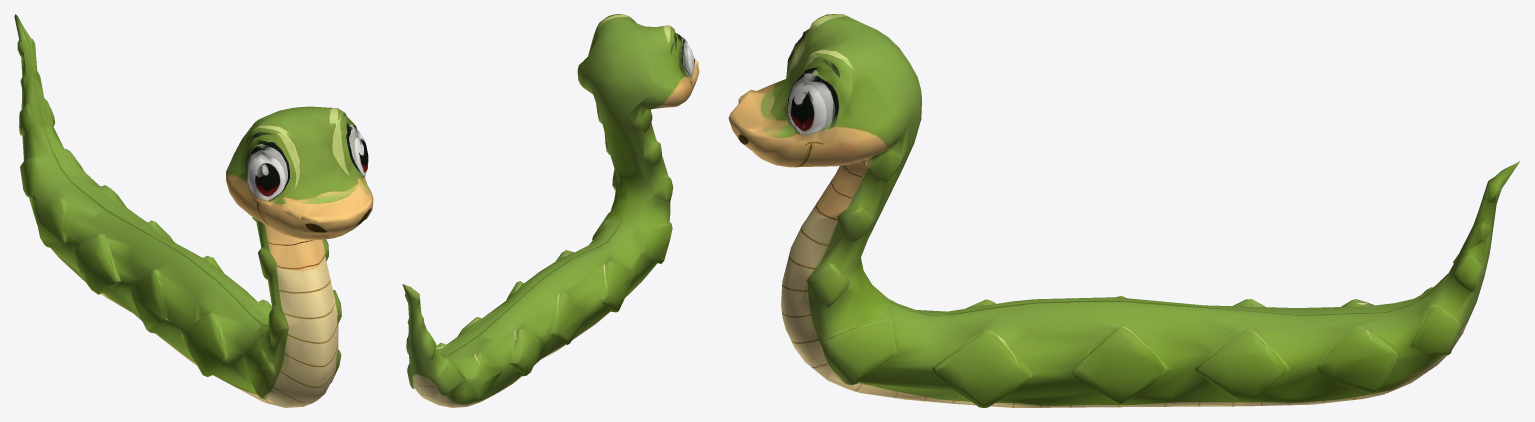
File: snake.glb
3 renders of one model, left to right at view 1: azimuth 30°, elevation 25°; view 2: azimuth 150°, elevation 25°; view 3: azimuth 270°, elevation 25°, orthographic. The views are drawn at different scales.
Size of the model in its own units: 0.4113 by 0.9753 by 1.91.
1 material, 1 textured.
